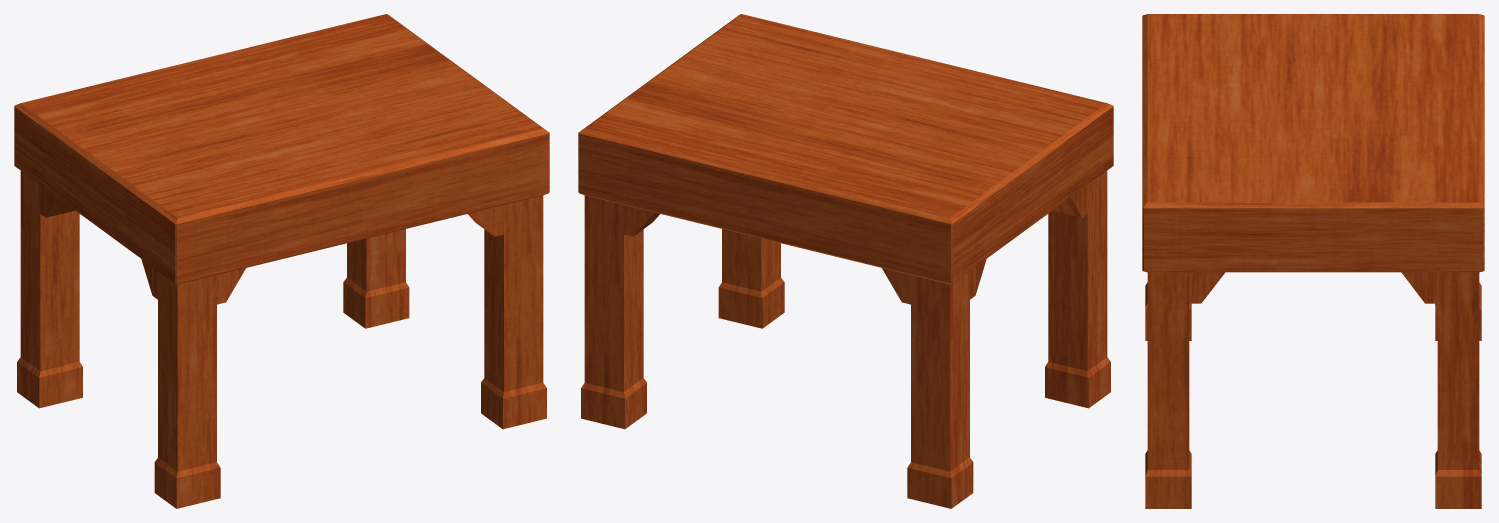
The model's file is eggtable.FBX.
3 renders of one model, left to right at view 1: azimuth 30°, elevation 25°; view 2: azimuth 150°, elevation 25°; view 3: azimuth 270°, elevation 25°, orthographic. The views are drawn at different scales.
Visible parts, largest first — view 1: Box001; view 2: Box001; view 3: Box001.
Boxes of the visible parts, <box> form: Box001: <box>14,14,549,508</box>; Box001: <box>578,14,1113,508</box>; Box001: <box>1142,14,1484,508</box>.
Size of the model in its own units: 53.01 by 39.15 by 39.76.
1 material, 1 textured.
